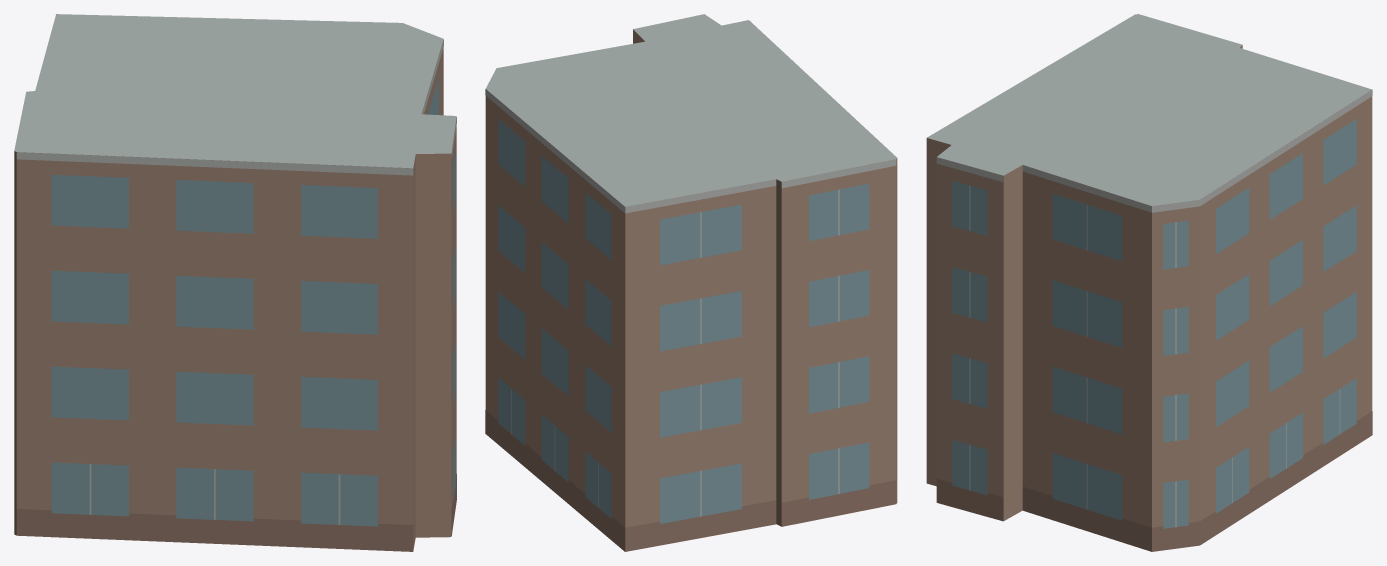
File: survey-upis-32888634.glb
3 views of the same model, side by side, from view 1: azimuth 30°, elevation 25°; view 2: azimuth 150°, elevation 25°; view 3: azimuth 270°, elevation 25° (orthographic). The views are drawn at different scales.
Parts seen in each view (by area): view 1: survey-upis-32888634.tmp; view 2: survey-upis-32888634.tmp; view 3: survey-upis-32888634.tmp.
Part boxes in pixels (x1,y1,x2,y2): survey-upis-32888634.tmp: [14, 14, 456, 551]; survey-upis-32888634.tmp: [485, 14, 897, 551]; survey-upis-32888634.tmp: [926, 14, 1372, 551].
Bounding box in the file's own units: 15.27 × 12.8 × 14.97.
